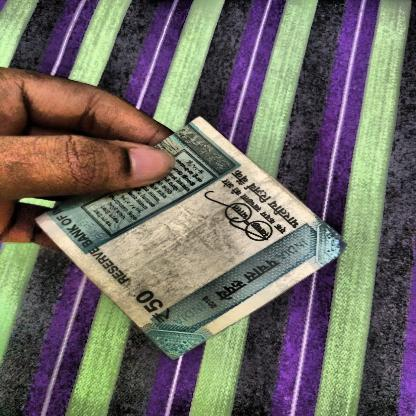Rs50: (128, 284, 181, 329)
